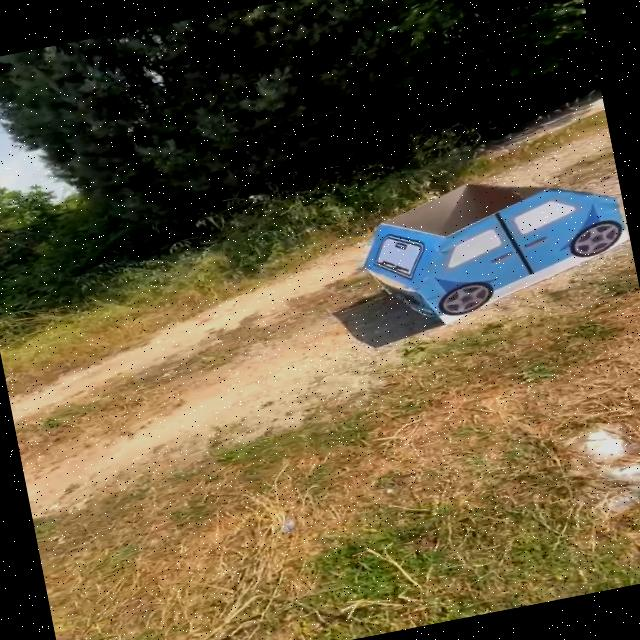blue_car: (330, 140, 640, 356)
